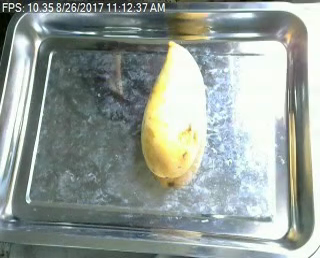Mango: (137, 34, 213, 177)
